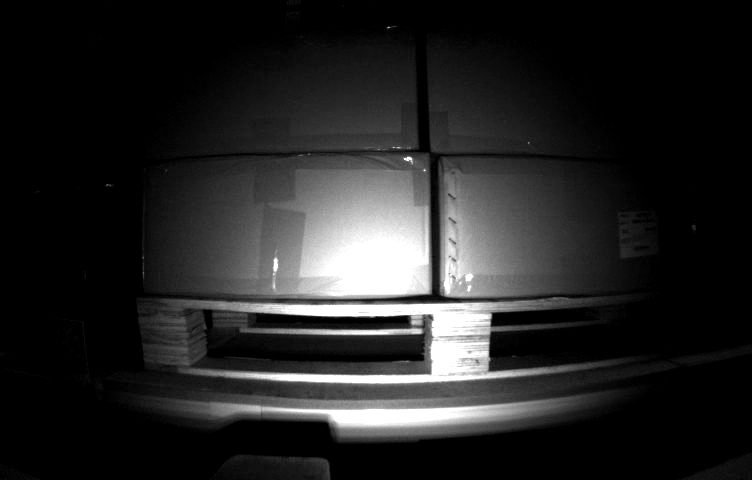True Barcode: (613, 212, 662, 260)
